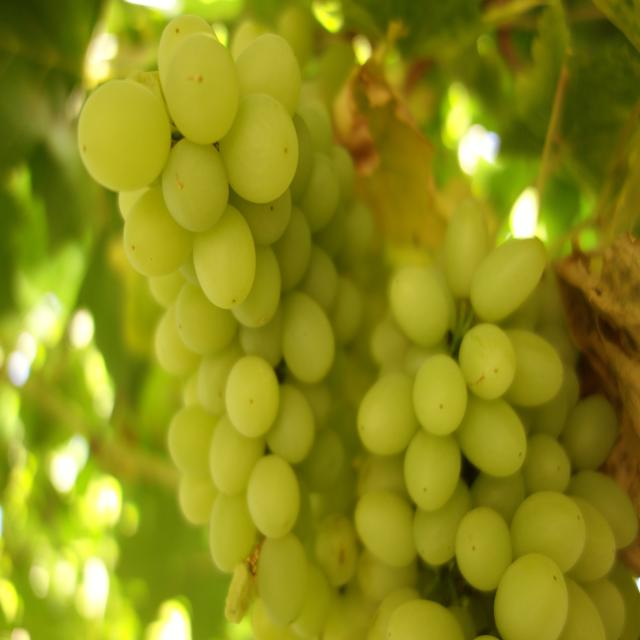grape: (78, 15, 356, 636), (354, 201, 640, 639)
